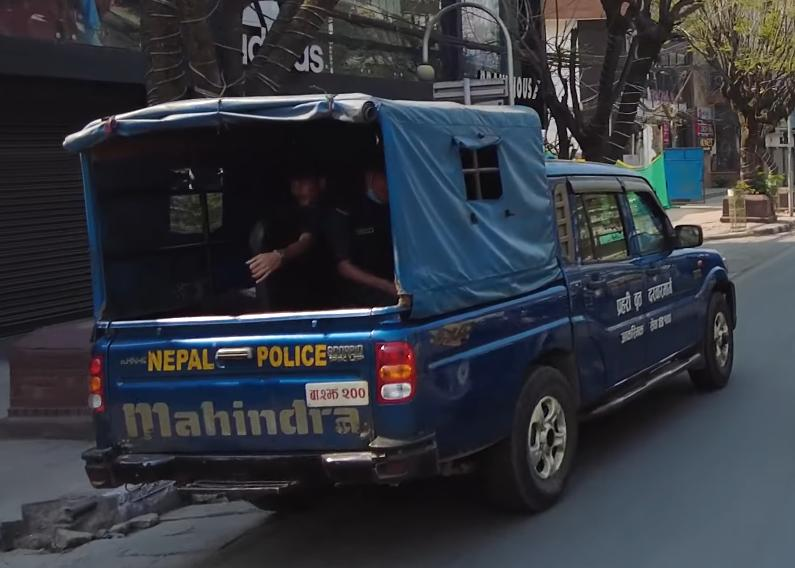police_vehicle: (59, 79, 747, 533)
